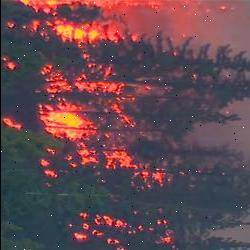fire: (26, 0, 179, 250)
